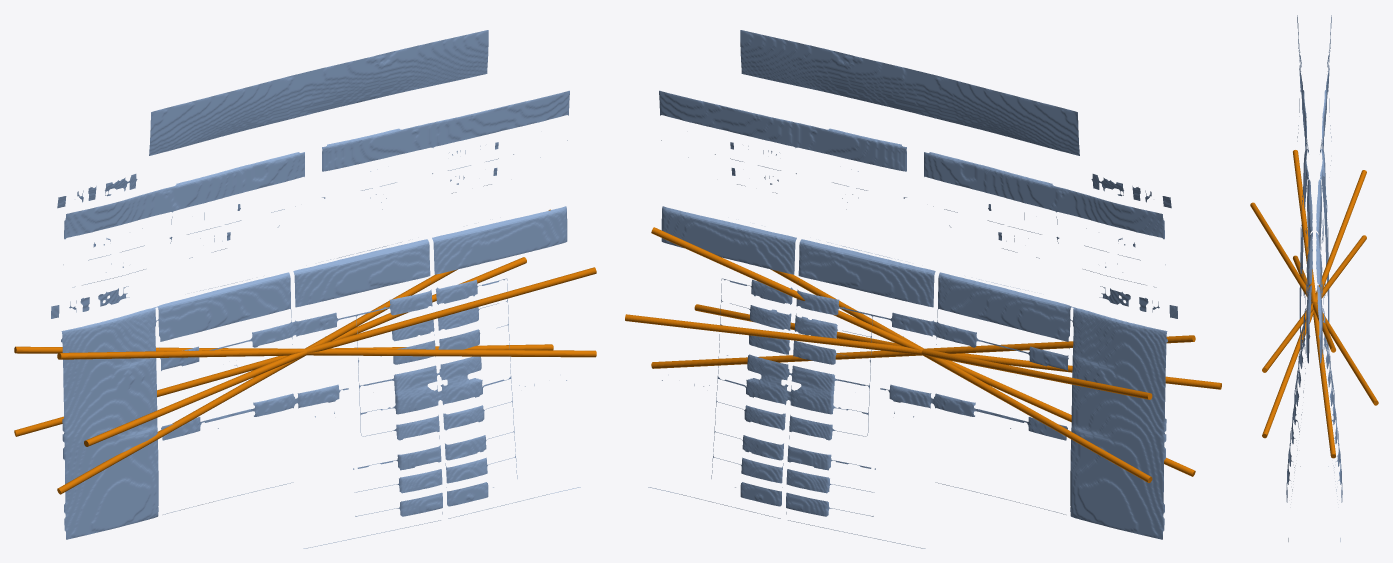
The model's file is A60023112_6150-37-520-4000_DigitalTwin.glb.
3 views of the same model, side by side, from view 1: azimuth 30°, elevation 25°; view 2: azimuth 150°, elevation 25°; view 3: azimuth 270°, elevation 25° (orthographic). The views are drawn at different scales.
Parts seen in each view (by area): view 1: world; view 2: world; view 3: world.
Boxes of the visible parts, x1,y1,x2,y2 form: world: (14,30,596,548); world: (625,30,1221,548); world: (1250,15,1378,541).
Size of the model in its own units: 354 by 310 by 96.72.
